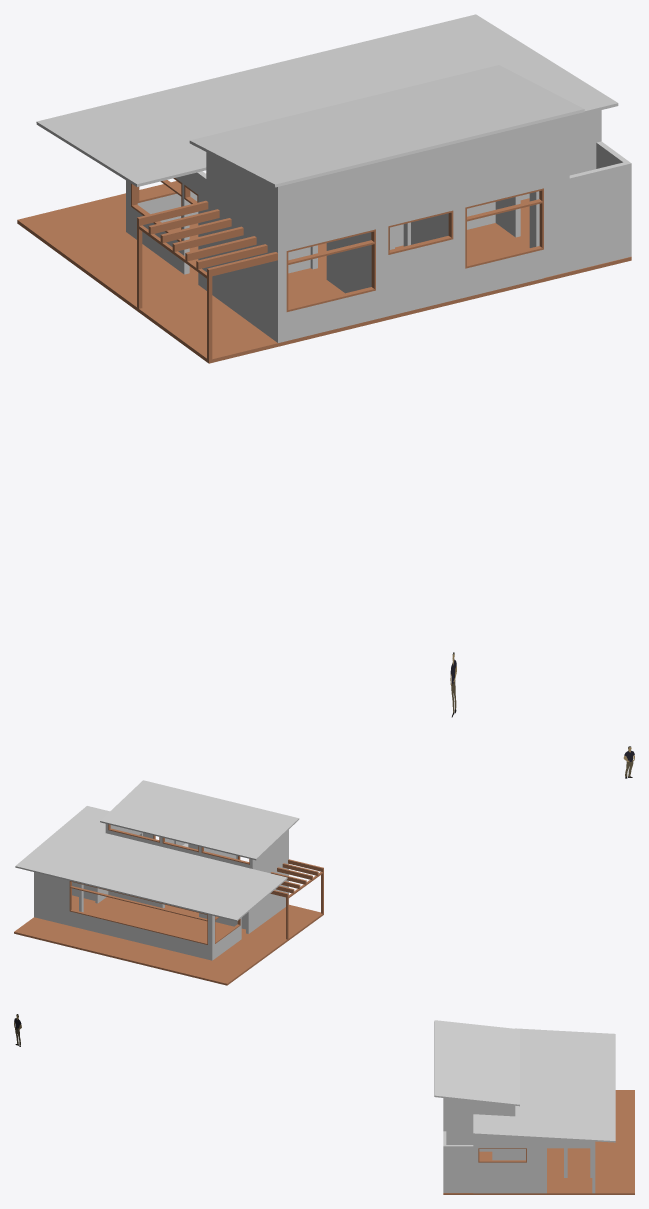
The model's file is cantinho_da_vovó.obj.
3 views of the same model, one above another, from view 1: azimuth 30°, elevation 25°; view 2: azimuth 150°, elevation 25°; view 3: azimuth 270°, elevation 25° (orthographic). The views are drawn at different scales.
Visible parts, largest first — view 1: Mesh19 Model, Mesh7 Group3 Model, Mesh1 Group1 Model, Mesh17 Group13 Model, Mesh5 Group2 Model; view 2: Mesh7 Group3 Model, Mesh17 Group13 Model, Mesh19 Model, Mesh1 Group1 Model, Mesh5 Group2 Model, Mesh8 Group4 Model; view 3: Mesh7 Group3 Model, Mesh19 Model, Mesh1 Group1 Model, Mesh17 Group13 Model.
Boxes of the visible parts, <box> form: Mesh19 Model: <box>126,110,631,342</box>; Mesh7 Group3 Model: <box>36,14,618,186</box>; Mesh1 Group1 Model: <box>189,65,584,187</box>; Mesh17 Group13 Model: <box>17,181,631,363</box>; Mesh5 Group2 Model: <box>137,200,277,359</box>; Mesh7 Group3 Model: <box>15,806,287,921</box>; Mesh17 Group13 Model: <box>14,895,323,985</box>; Mesh19 Model: <box>34,824,322,960</box>; Mesh1 Group1 Model: <box>100,780,299,860</box>; Mesh5 Group2 Model: <box>270,859,323,939</box>; Mesh8 Group4 Model: <box>70,909,207,944</box>; Mesh7 Group3 Model: <box>473,1028,615,1142</box>; Mesh19 Model: <box>443,1098,595,1193</box>; Mesh1 Group1 Model: <box>434,1020,519,1106</box>; Mesh17 Group13 Model: <box>443,1090,634,1194</box>.
Size of the model in its own units: 18.24 by 4.76 by 31.26.
